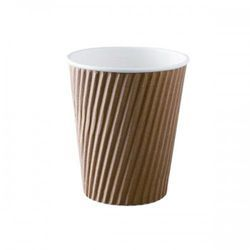Rec_Paper: (52, 30, 184, 224)
